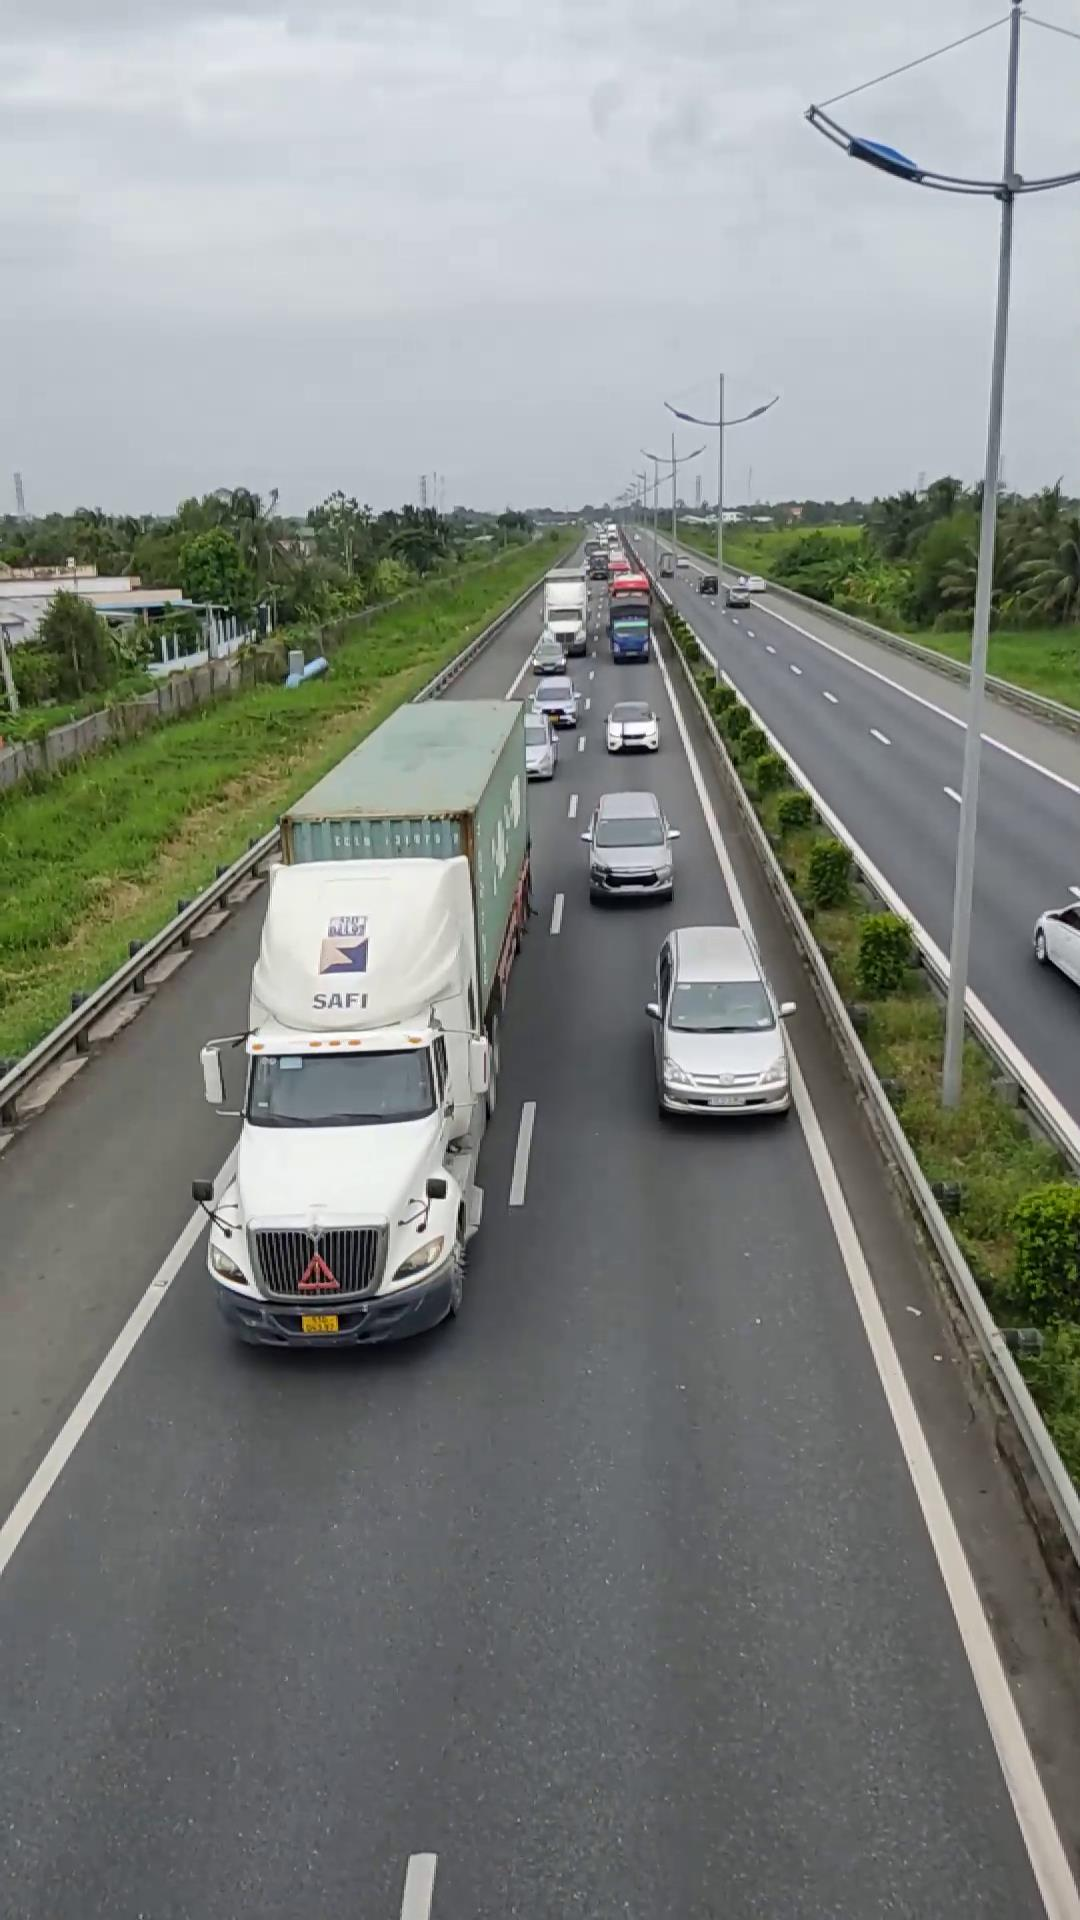car: (645, 923, 794, 1121), (581, 789, 679, 904)
container: (200, 688, 534, 1347)
